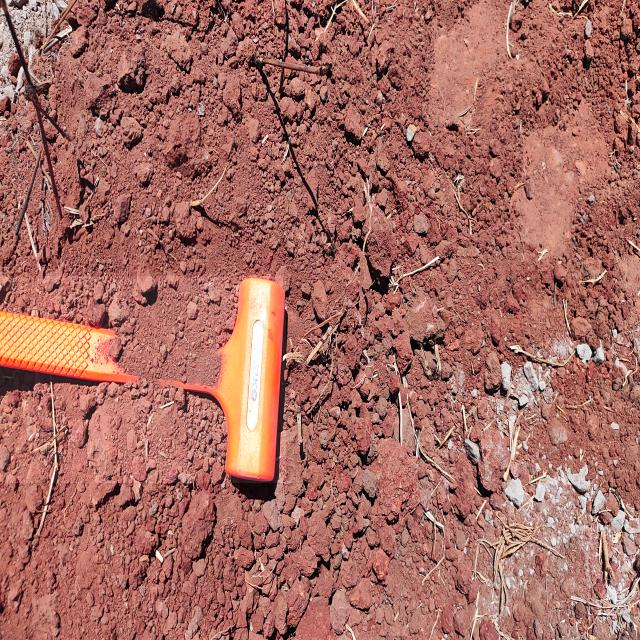Orange_hammer: (0, 276, 286, 483)
